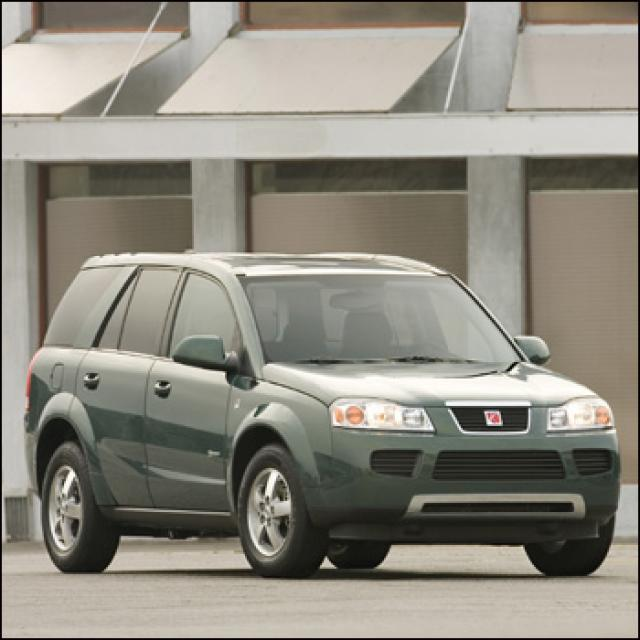Car: (25, 243, 618, 586)
